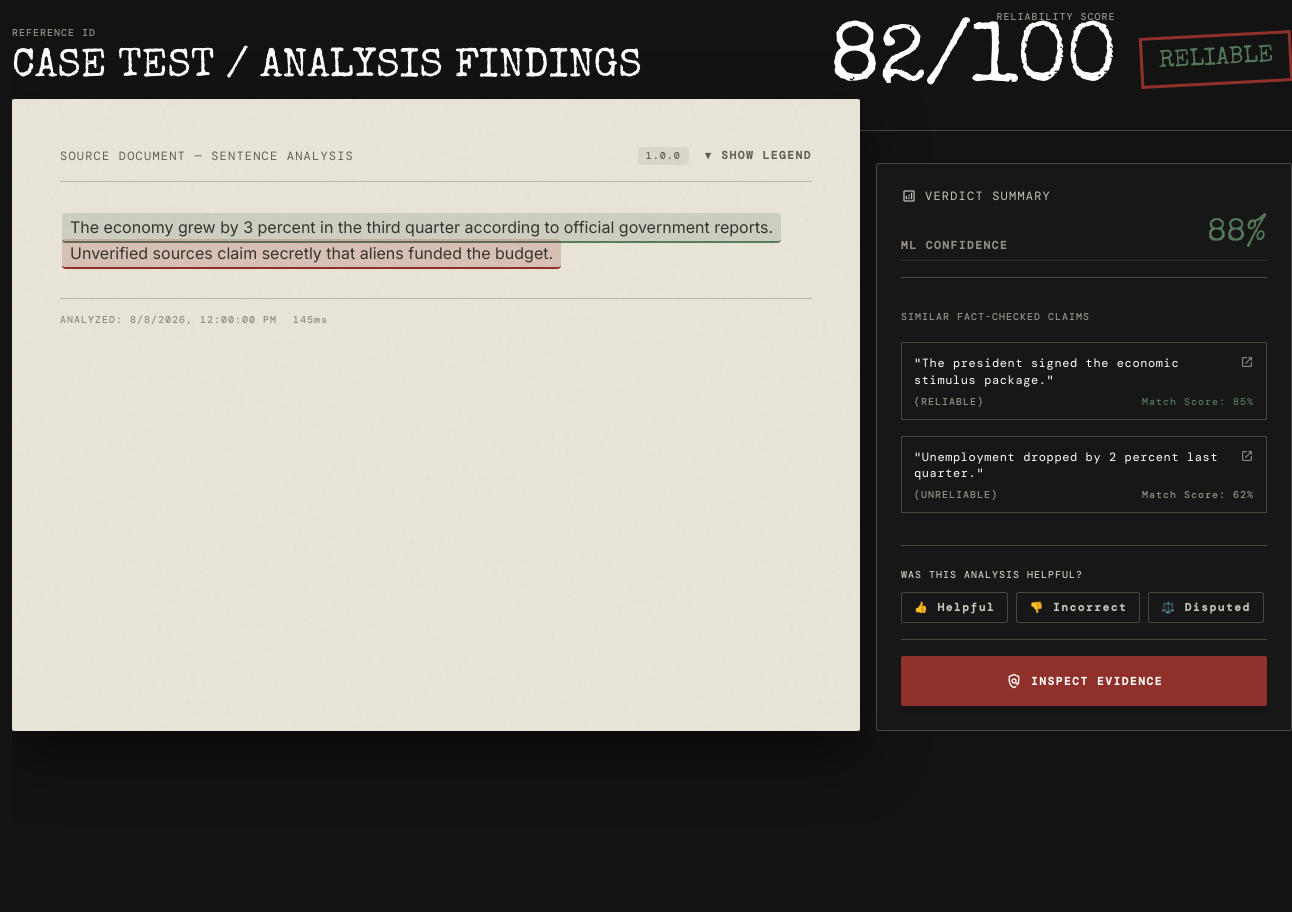
Test case: Phase 3 UI Components & Interactions › handles feedback submission error gracefully with explicit retry option
What coordinates should you click on to do the following:
click the button "👎 Incorrect"
I would click on:
 (1078, 608)
Its box is [1016, 592, 1140, 623].
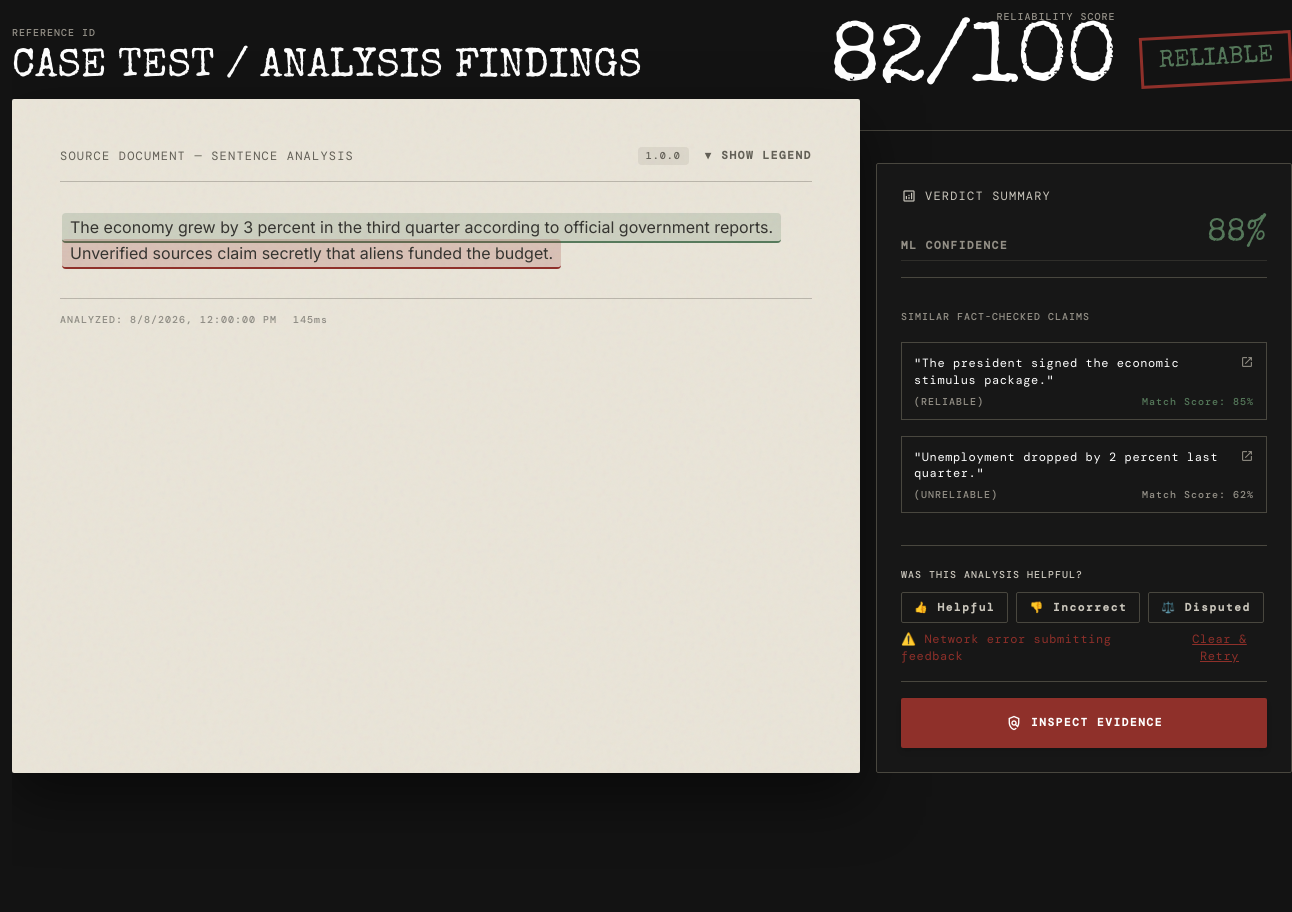
Result: the text "⚠️ Network error submitting feedback" is shown at [901, 631, 1112, 664]
// Test retry button clears error and allows resubmission
What coordinates should you click on to do the following:
click the button "Clear & Retry"
I would click on:
 (1220, 648)
Its box is [1172, 631, 1267, 665].
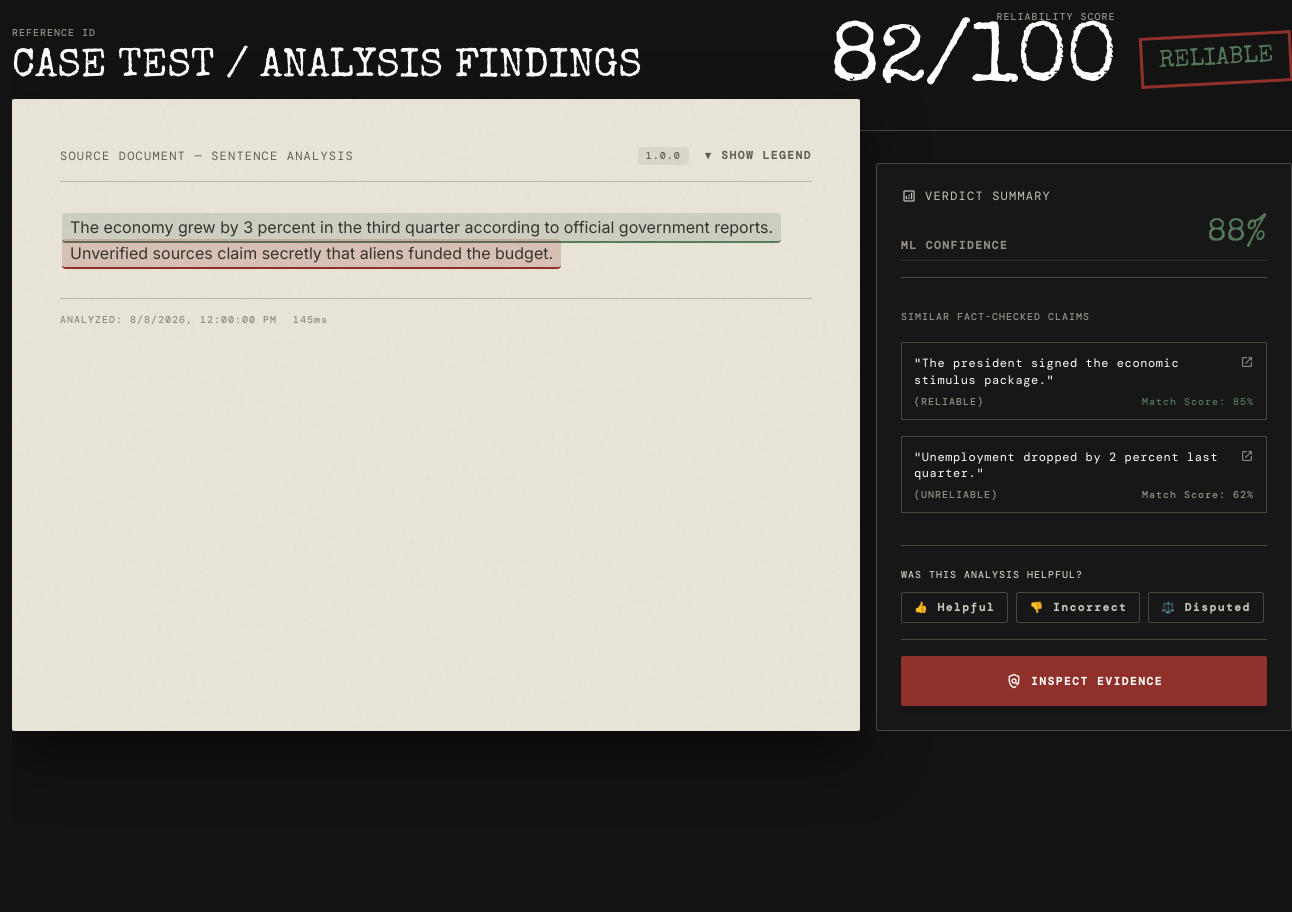
Result: the text "⚠️ Network error submitting feedback" is gone
